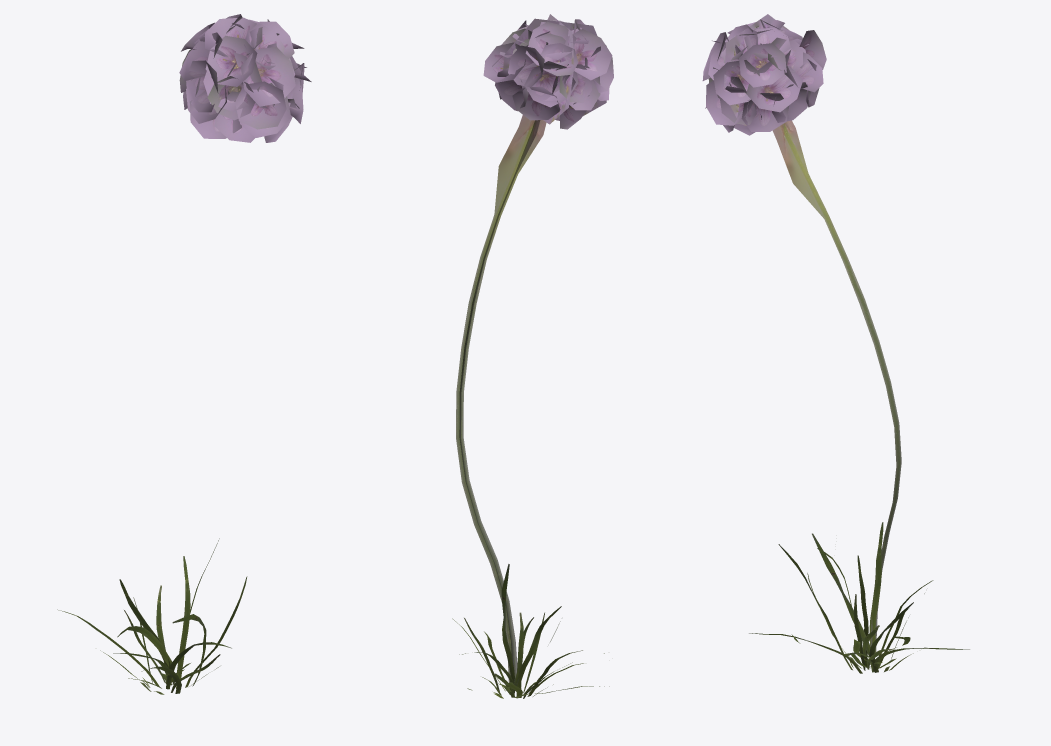
Rendered from flower.glb.
The picture shows the model from 3 angles, left to right: view 1: azimuth 30°, elevation 25°; view 2: azimuth 150°, elevation 25°; view 3: azimuth 270°, elevation 25°; orthographic projection. The views are drawn at different scales.
Parts seen in each view (by area): view 1: _ndyj_Var10_LOD0; view 2: _ndyj_Var10_LOD0; view 3: _ndyj_Var10_LOD0.
Part boxes in pixels (x1,y1,x2,y2): _ndyj_Var10_LOD0: (57, 14, 311, 694); _ndyj_Var10_LOD0: (452, 14, 613, 698); _ndyj_Var10_LOD0: (702, 14, 969, 673).
Bounding box in the file's own units: 8.01 × 17.16 × 8.18.
Materials: 1 (1 with a texture image).
